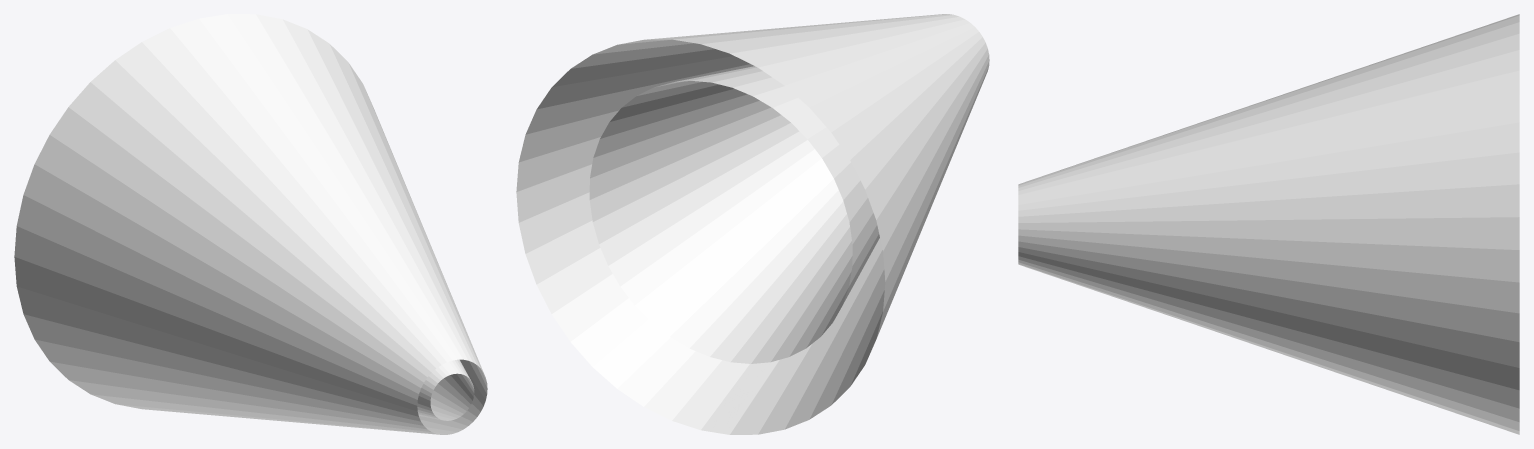
File: BreathCone.fbx
The picture shows the model from 3 angles, left to right: view 1: azimuth 30°, elevation 25°; view 2: azimuth 150°, elevation 25°; view 3: azimuth 270°, elevation 25°; orthographic projection.
Parts seen in each view (by area): view 1: BreathCone; view 2: BreathCone; view 3: BreathCone.
Boxes of the visible parts, x1=… form: BreathCone: x1=14, y1=14, x2=487, y2=434; BreathCone: x1=516, y1=14, x2=989, y2=434; BreathCone: x1=1018, y1=14, x2=1519, y2=434.
Bounding box in the file's own units: 0.84 × 0.84 × 1.
1 material, 1 textured.
